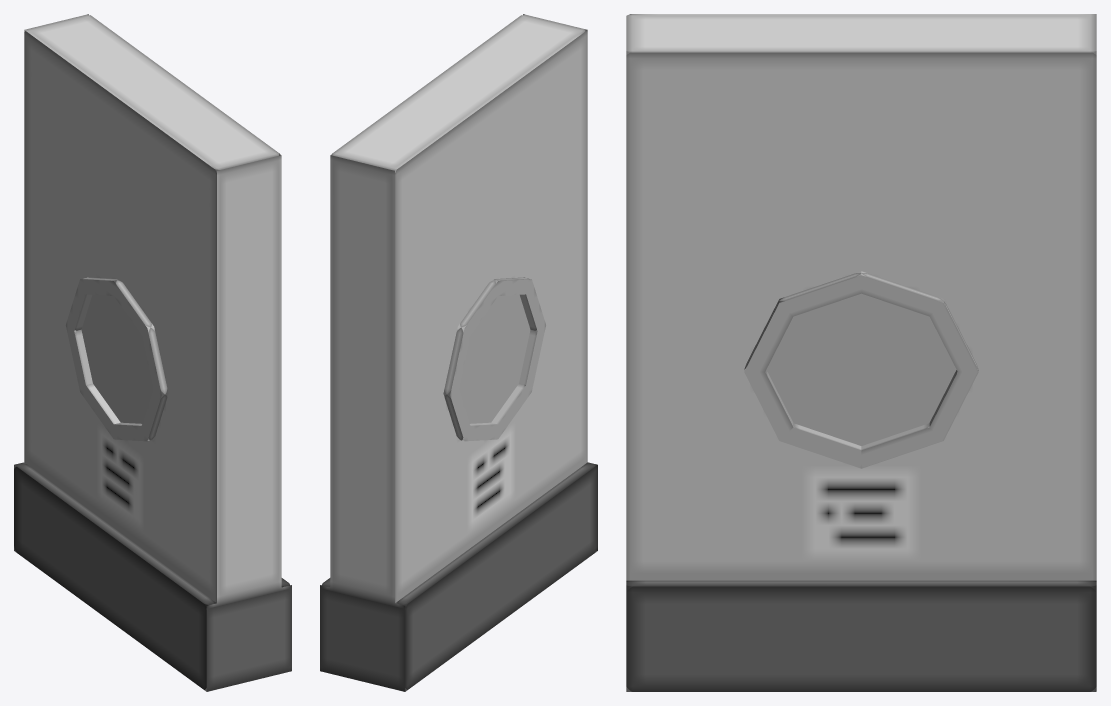
The model's file is Door.fbx.
3 views of the same model, side by side, from view 1: azimuth 30°, elevation 25°; view 2: azimuth 150°, elevation 25°; view 3: azimuth 270°, elevation 25° (orthographic). The views are drawn at different scales.
Parts seen in each view (by area): view 1: Door_1, Door Mirror; view 2: Door_1, Door Mirror; view 3: Door_1, Door Mirror.
Boxes of the visible parts, x1,y1,x2,y2 form: Door_1: (14, 14, 291, 691); Door Mirror: (81, 295, 152, 423); Door_1: (320, 14, 597, 691); Door Mirror: (459, 295, 530, 423); Door_1: (626, 14, 1096, 691); Door Mirror: (766, 293, 956, 445).
Bounding box in the file's own units: 56.76 × 331 × 223.
